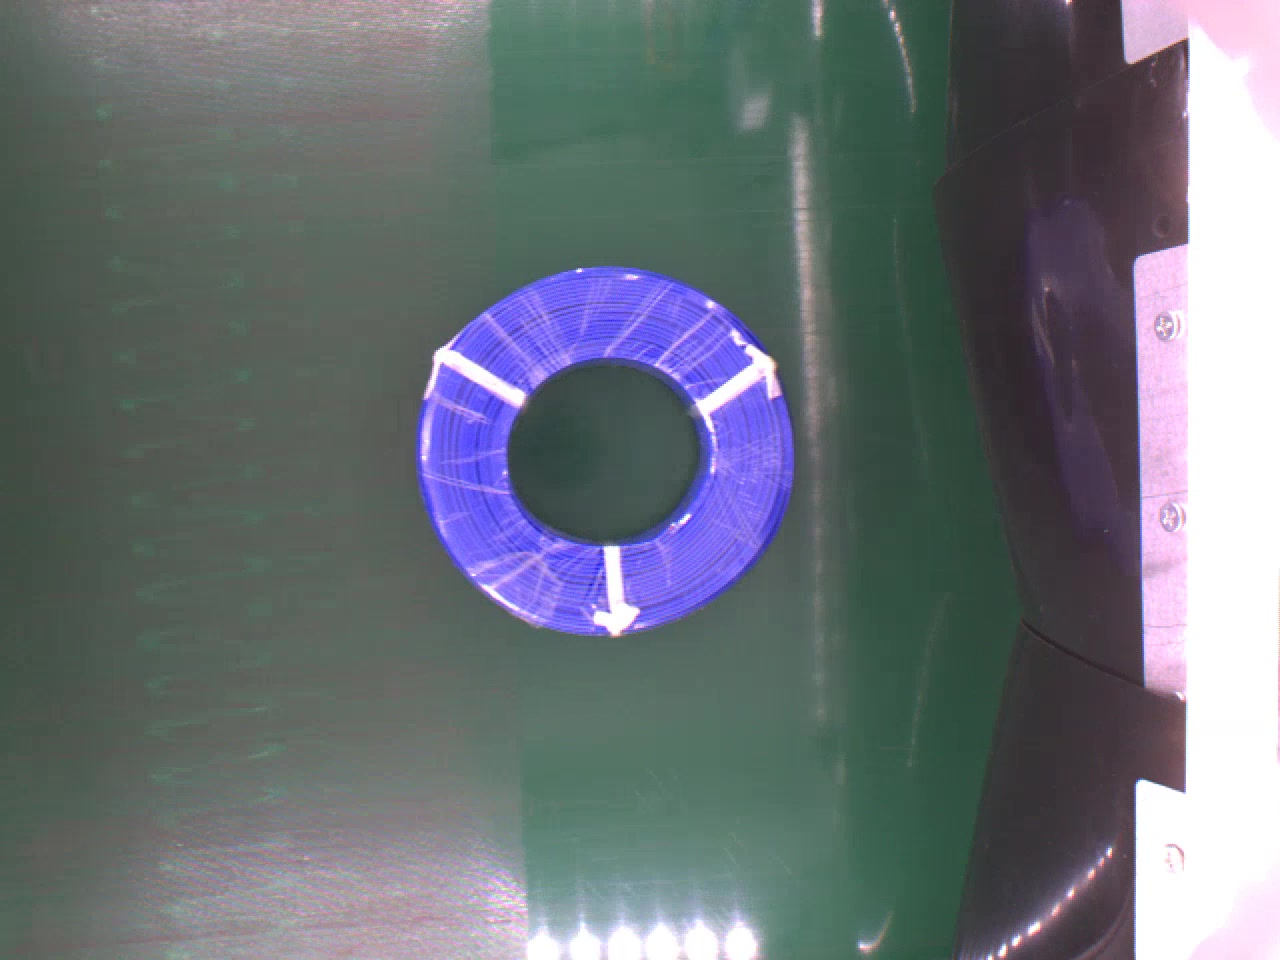blue: (417, 259, 795, 638)
